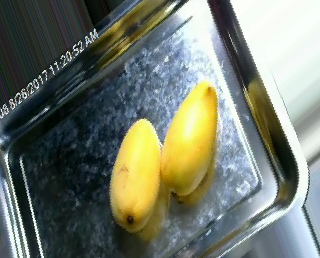Mango: (161, 84, 218, 196), (110, 118, 160, 233)
